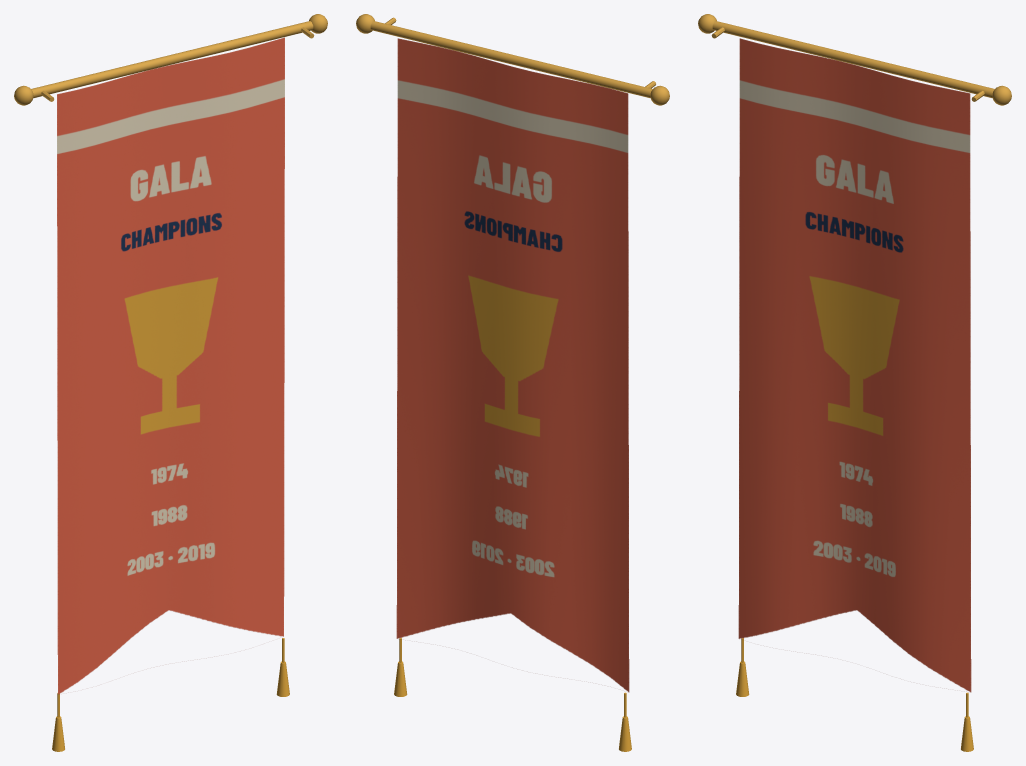
File: banner_2.glb
The picture shows the model from 3 angles, left to right: view 1: azimuth 30°, elevation 25°; view 2: azimuth 150°, elevation 25°; view 3: azimuth 330°, elevation 25°; orthographic projection.
Parts seen in each view (by area): view 1: Banner2Mesh; view 2: Banner2Mesh; view 3: Banner2Mesh.
Part boxes in pixels (x1,y1,x2,y2): Banner2Mesh: (14,14,327,751); Banner2Mesh: (356,14,669,751); Banner2Mesh: (698,14,1011,751).
Bounding box in the file's own units: 1.63 × 3.35 × 0.145.
Materials: 3 (1 with a texture image).
